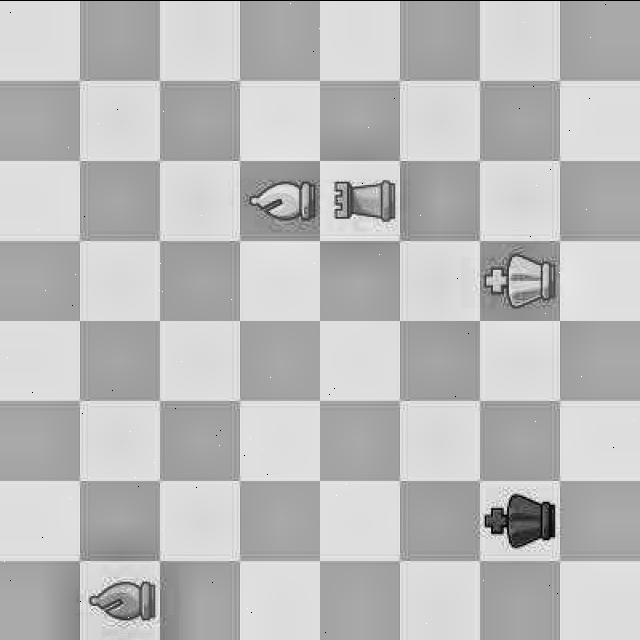black king: (482, 478, 554, 558)
white bishop: (82, 563, 158, 639), (243, 162, 319, 236)
white king: (480, 245, 557, 319)
white rook: (326, 160, 396, 240)
